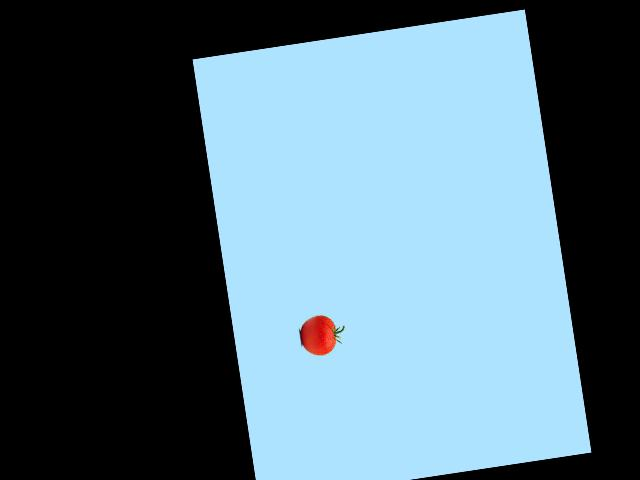tomato: (298, 313, 338, 358)
